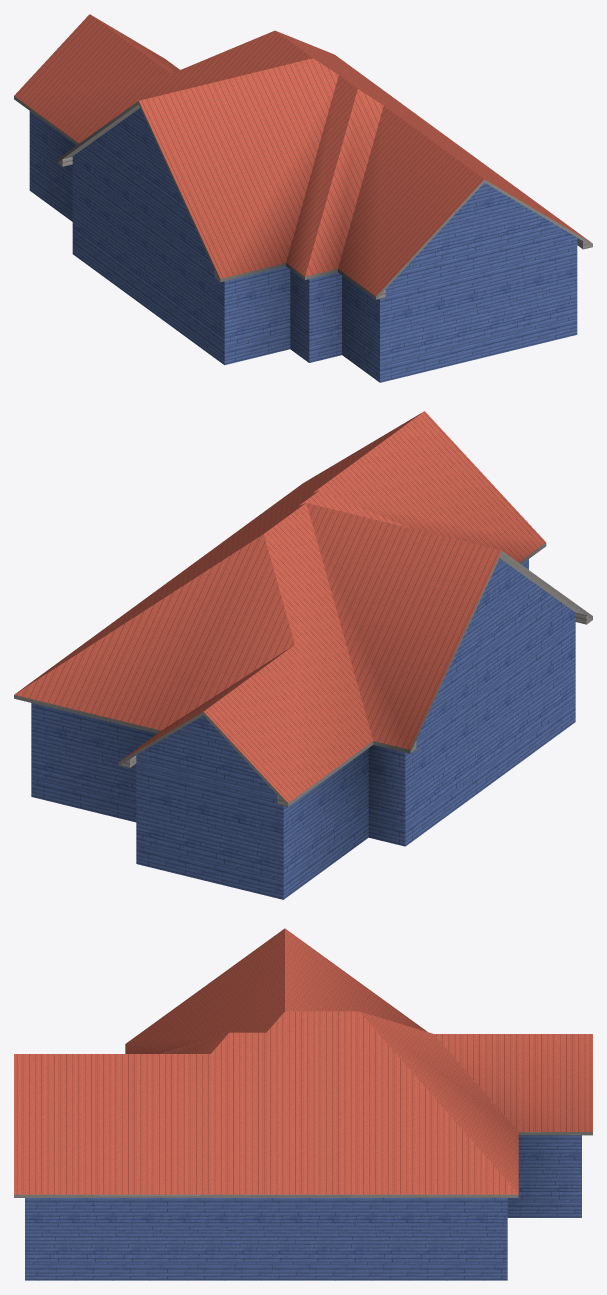
The model's file is house_08.glb.
The picture shows the model from 3 angles, top to bottom: view 1: azimuth 30°, elevation 25°; view 2: azimuth 150°, elevation 25°; view 3: azimuth 270°, elevation 25°; orthographic projection. The views are drawn at different scales.
Visible parts, largest first — view 1: Export; view 2: Export; view 3: Export.
Boxes of the visible parts, x1,y1,x2,y2 form: Export: [14, 14, 592, 382]; Export: [14, 411, 592, 899]; Export: [14, 928, 592, 1280].
Size of the model in its own units: 9.6 by 6.14 by 15.6.
3 materials, 3 textured.
